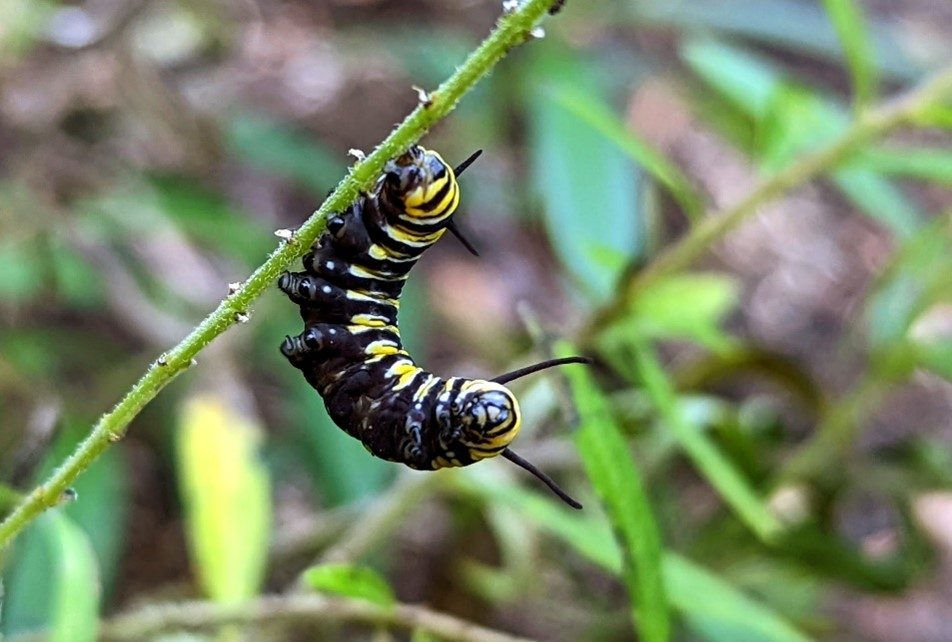Caterpillar: (278, 143, 591, 511)
